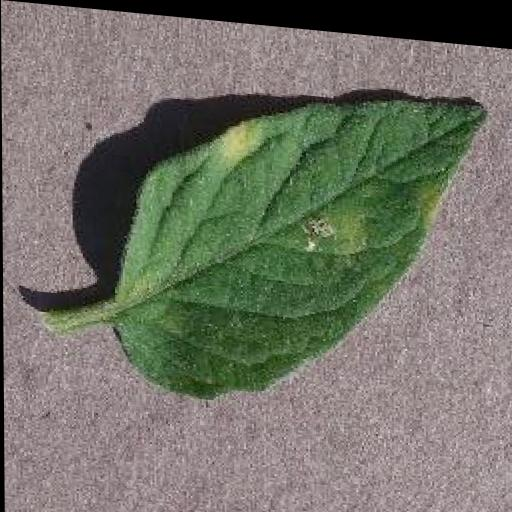Leaf Mold: (114, 65, 492, 415)
